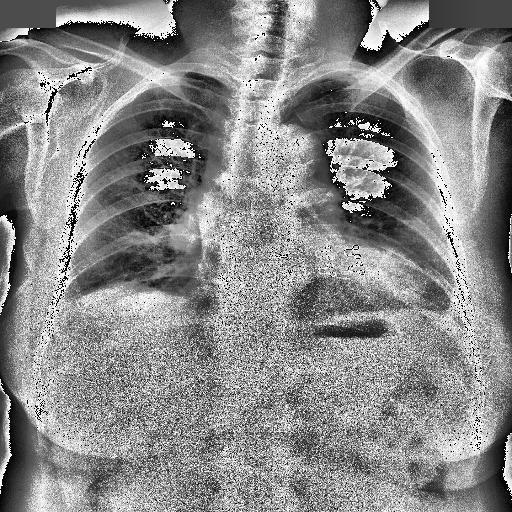0- Aortic enlargement: (207, 125, 328, 206), (242, 122, 338, 204), (266, 127, 332, 190)
3- Cardiomegaly: (185, 249, 430, 330), (194, 247, 450, 310), (184, 263, 434, 313)
